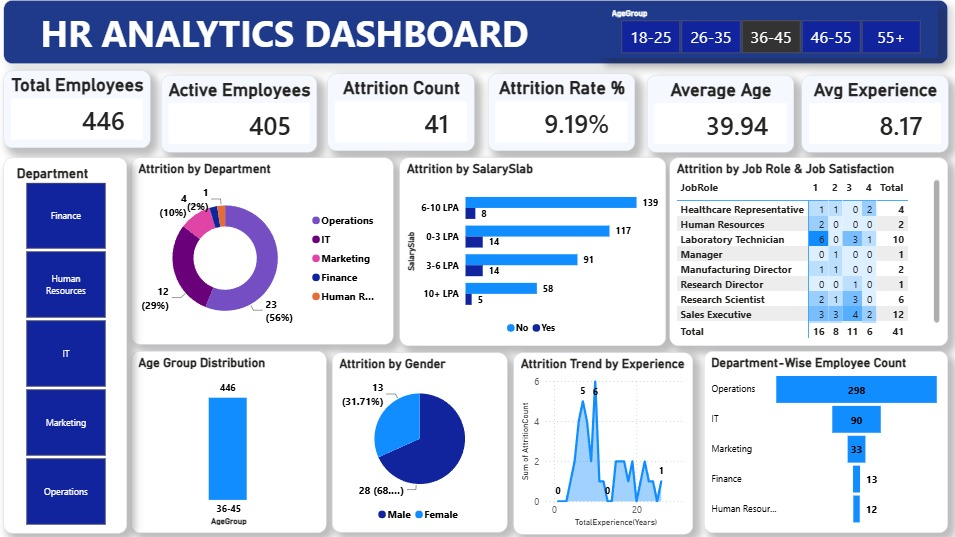

Layout of this report page (visuals, bound fields, positions):
{"tool":"powerbi","page":{"name":"Page 2","canvas":[1280,720],"ordinal":0},"visuals":[{"type":"textbox","box":[9.4,0,1259,85],"z":0},{"type":"cardVisual","title":"Total Employees","fields":{"Data":["CountNonNull(HR_Analytics-4.EmpID)"]},"box":[10.1,95,196,103.1],"z":1000},{"type":"cardVisual","title":"Active Employees","fields":{"Data":["CountNonNull(HR_Analytics-4.EmployeeCount)"]},"box":[220.3,99,208.2,103.1],"z":2000},{"type":"cardVisual","title":"Attrition Count","fields":{"Data":["Sum(HR_Analytics-4.AttritionCount)"]},"box":[442.6,97,196,103.1],"z":3000},{"type":"cardVisual","title":"Attrition Rate %","fields":{"Data":["HR_Analytics-4.Attrition Rate %"]},"box":[656.8,97,196,103.1],"z":4000},{"type":"cardVisual","title":"Average Age","fields":{"Data":["Avg(HR_Analytics-4.Age)"]},"box":[867,99,196,103.1],"z":5000},{"type":"cardVisual","title":"Avg Experience","fields":{"Data":["Avg(HR_Analytics-4.YearsatCompany)"]},"box":[1073.2,99,196,103.1],"z":6000},{"type":"donutChart","title":" Attrition by Department","fields":{"Category":["HR_Analytics-4.Department"],"Y":["Sum(HR_Analytics-4.AttritionCount)"]},"box":[179,210,350,249],"z":7000},{"type":"clusteredBarChart","title":"Attrition by SalarySlab","fields":{"Category":["HR_Analytics-4.SalarySlab"],"Y":["Sum(HR_Analytics-4.EmployeeCount)"],"Series":["HR_Analytics-4.Attrition"]},"box":[537,209,355,251],"z":8000},{"type":"pivotTable","title":"Attrition by Job Role & Job Satisfaction","fields":{"Rows":["HR_Analytics-4.JobRole"],"Values":["Sum(HR_Analytics-4.AttritionCount)"],"Columns":["HR_Analytics-4.JobSatisfaction"]},"box":[898,209,371,251],"z":9000},{"type":"columnChart","title":"Age Group  Distribution","fields":{"Category":["HR_Analytics-4.AgeGroup"],"Y":["Sum(HR_Analytics-4.EmployeeCount)"]},"box":[179.9,468.9,260.7,242.5],"z":9001},{"type":"pieChart","title":" Attrition by Gender","fields":{"Category":["HR_Analytics-4.Gender"],"Y":["Sum(HR_Analytics-4.AttritionCount)"]},"box":[448,470.9,234,240],"z":9002},{"type":"areaChart","title":"Attrition Trend  by Experience","fields":{"Category":["HR_Analytics-4.TotalExperience(Years)"],"Y":["Sum(HR_Analytics-4.AttritionCount)"]},"box":[689,469,239,242.5],"z":9003},{"type":"funnel","title":"Department-Wise Employee Count","fields":{"Category":["HR_Analytics-4.Department"],"Y":["Sum(HR_Analytics-4.EmployeeCount)"]},"box":[943.8,468.9,325.4,242.5],"z":9004},{"type":"slicer","fields":{"Values":["HR_Analytics-4.Department"]},"box":[9.6,209.3,164.5,501.6],"z":9005},{"type":"slicer","fields":{"Values":["HR_Analytics-4.AgeGroup"]},"box":[808.3,6.4,448.9,71.9],"z":9006}]}

Visuals, with their boxes in screenshot pixels (x1, y1, x2, y2), scaled from the page's 1280x720 canvas onto the 955x537 screenshot:
textbox: locate(7, 0, 946, 63)
"Total Employees" cardVisual: locate(8, 71, 154, 148)
"Active Employees" cardVisual: locate(164, 74, 320, 151)
"Attrition Count" cardVisual: locate(330, 72, 476, 149)
"Attrition Rate %" cardVisual: locate(490, 72, 636, 149)
"Average Age" cardVisual: locate(647, 74, 793, 151)
"Avg Experience" cardVisual: locate(801, 74, 947, 151)
" Attrition by Department" donutChart: locate(134, 157, 395, 342)
"Attrition by SalarySlab" clusteredBarChart: locate(401, 156, 666, 343)
"Attrition by Job Role & Job Satisfaction" pivotTable: locate(670, 156, 947, 343)
"Age Group  Distribution" columnChart: locate(134, 350, 329, 531)
" Attrition by Gender" pieChart: locate(334, 351, 509, 530)
"Attrition Trend  by Experience" areaChart: locate(514, 350, 692, 531)
"Department-Wise Employee Count" funnel: locate(704, 350, 947, 531)
slicer - HR_Analytics-4.Department: locate(7, 156, 130, 530)
slicer - HR_Analytics-4.AgeGroup: locate(603, 5, 938, 58)
